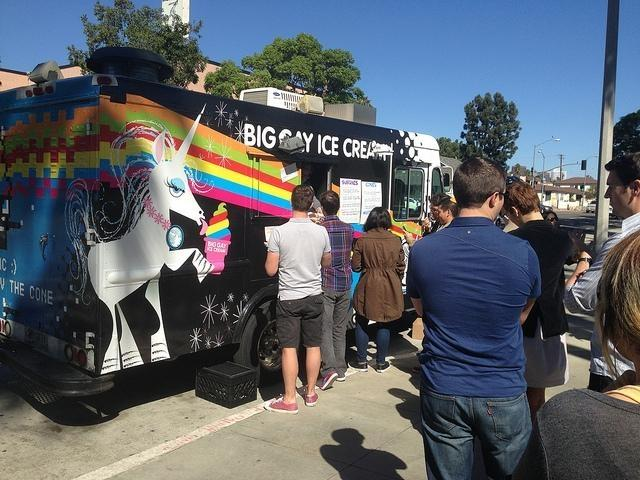car: (585, 201, 597, 213)
truck: (2, 74, 451, 400)
